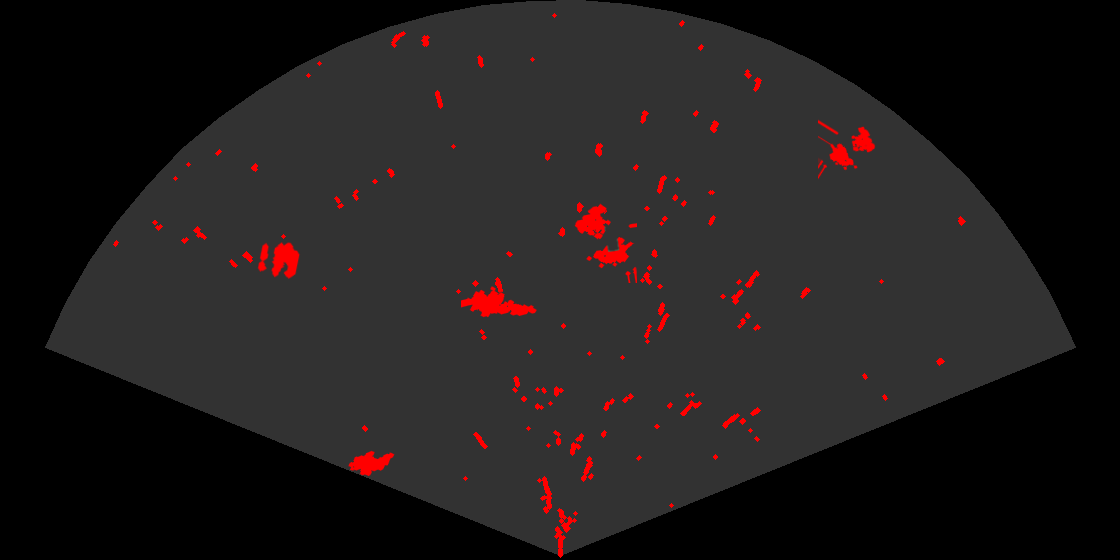AUV: (347, 449, 396, 478)
ball: (256, 240, 302, 280)
cage: (573, 202, 637, 283), (818, 118, 877, 181)
frogman: (461, 285, 538, 319)
